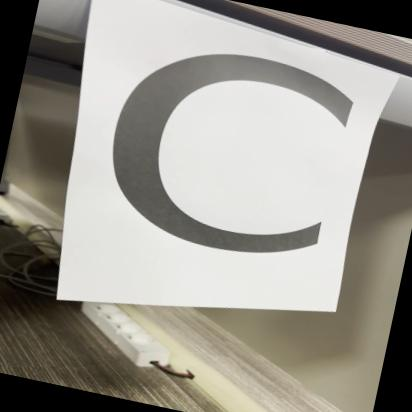seat: (56, 15, 374, 309)
